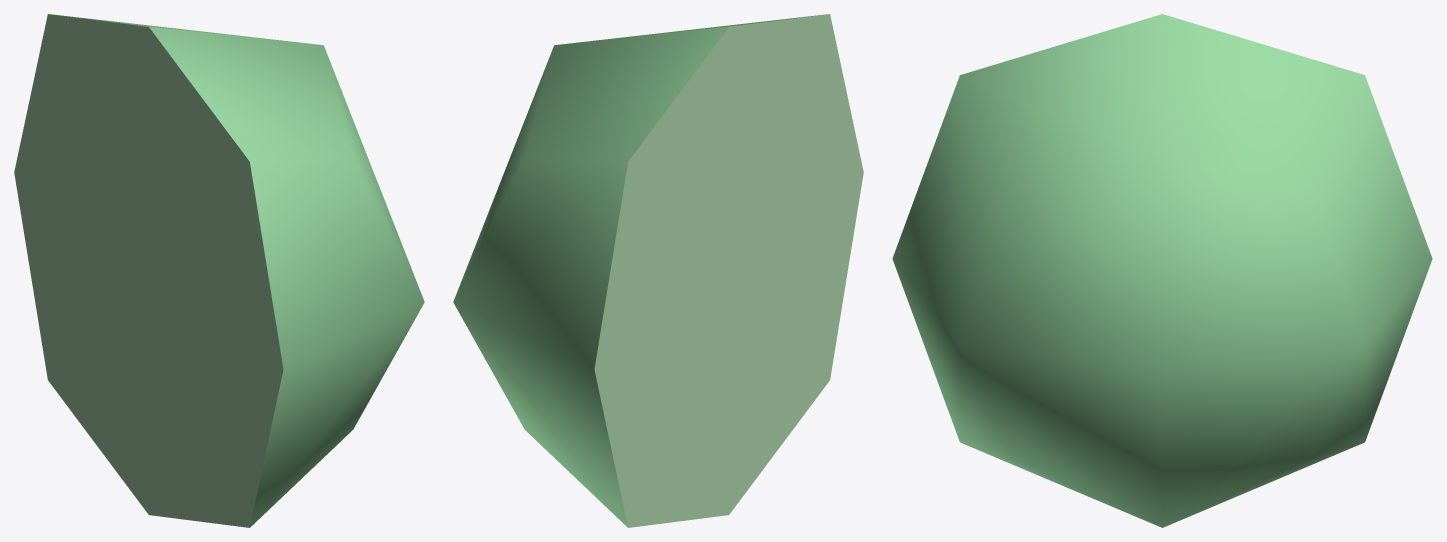
The model's file is cabbage_right.fbx.
The picture shows the model from 3 angles, left to right: view 1: azimuth 30°, elevation 25°; view 2: azimuth 150°, elevation 25°; view 3: azimuth 270°, elevation 25°; orthographic projection.
Visible parts, largest first — view 1: pasted__polySurface2; view 2: pasted__polySurface2; view 3: pasted__polySurface2.
Boxes of the visible parts, left/top/right/bottom form: pasted__polySurface2: left=14, top=14, right=424, bottom=527; pasted__polySurface2: left=453, top=14, right=863, bottom=527; pasted__polySurface2: left=892, top=14, right=1432, bottom=527.
Size of the model in its own units: 1.22 by 2.43 by 2.43.
